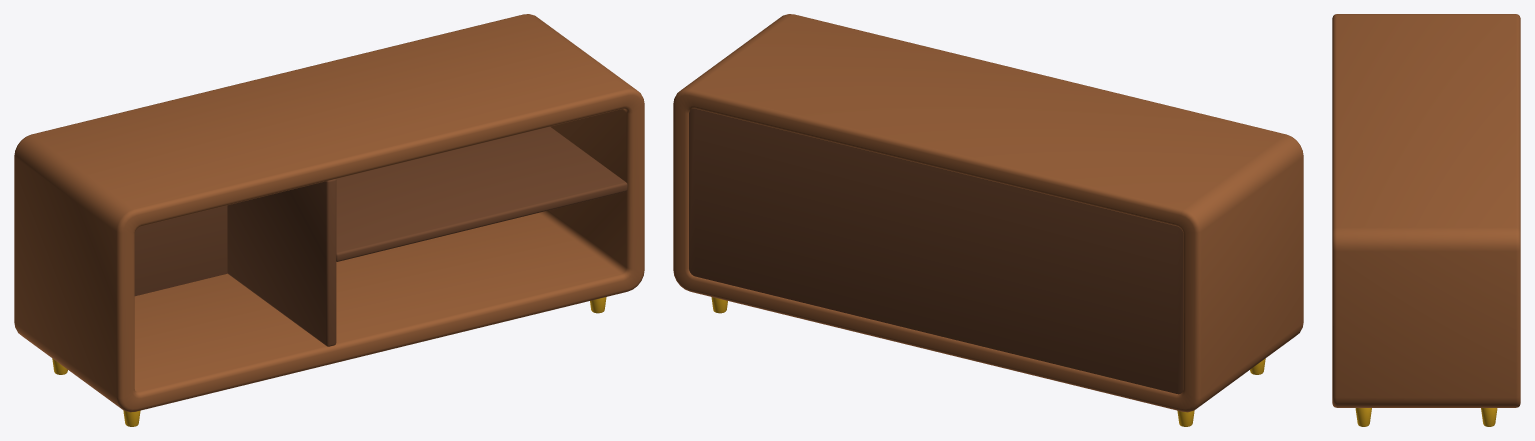
File: rack_nichos_abertos_madeira.glb
3 views of the same model, side by side, from view 1: azimuth 30°, elevation 25°; view 2: azimuth 150°, elevation 25°; view 3: azimuth 270°, elevation 25° (orthographic). The views are drawn at different scales.
Parts seen in each view (by area): view 1: rack_nichos_abertos_madeira; view 2: rack_nichos_abertos_madeira; view 3: rack_nichos_abertos_madeira.
Part boxes in pixels (left/top/right/bottom): rack_nichos_abertos_madeira: left=14, top=14, right=644, bottom=426; rack_nichos_abertos_madeira: left=673, top=14, right=1303, bottom=426; rack_nichos_abertos_madeira: left=1332, top=14, right=1520, bottom=426.
Size of the model in its own units: 1.2 by 0.5 by 0.42.
1 material, 1 textured.
